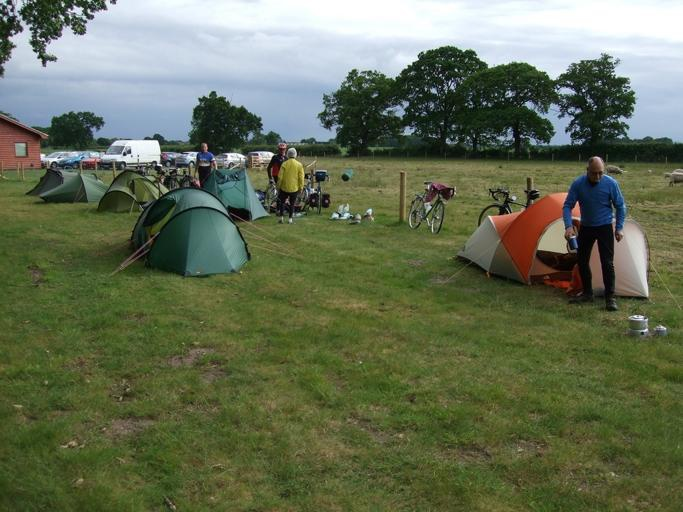non-vehicle: (407, 180, 456, 235), (476, 186, 540, 227), (155, 166, 194, 189), (135, 164, 151, 176)
